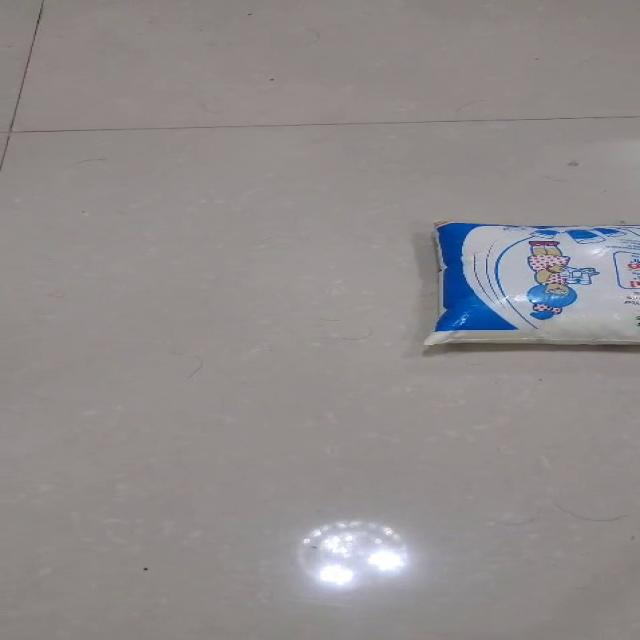plastic: (422, 219, 638, 346)
